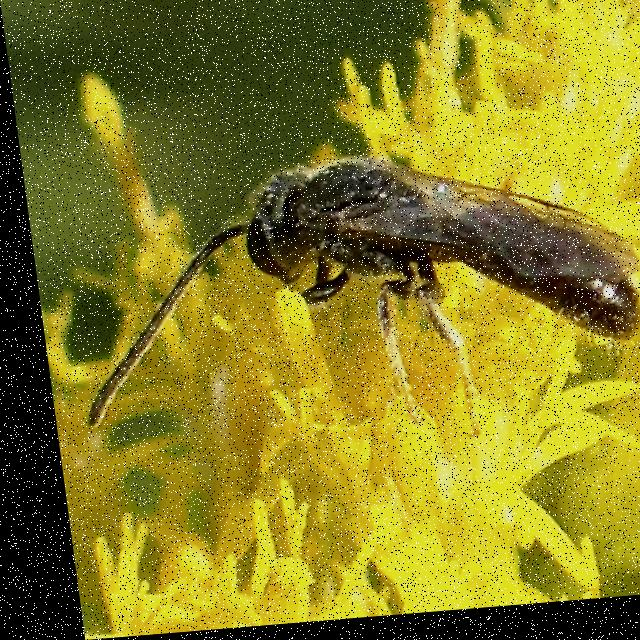Lasioglossum: (45, 119, 640, 504)
